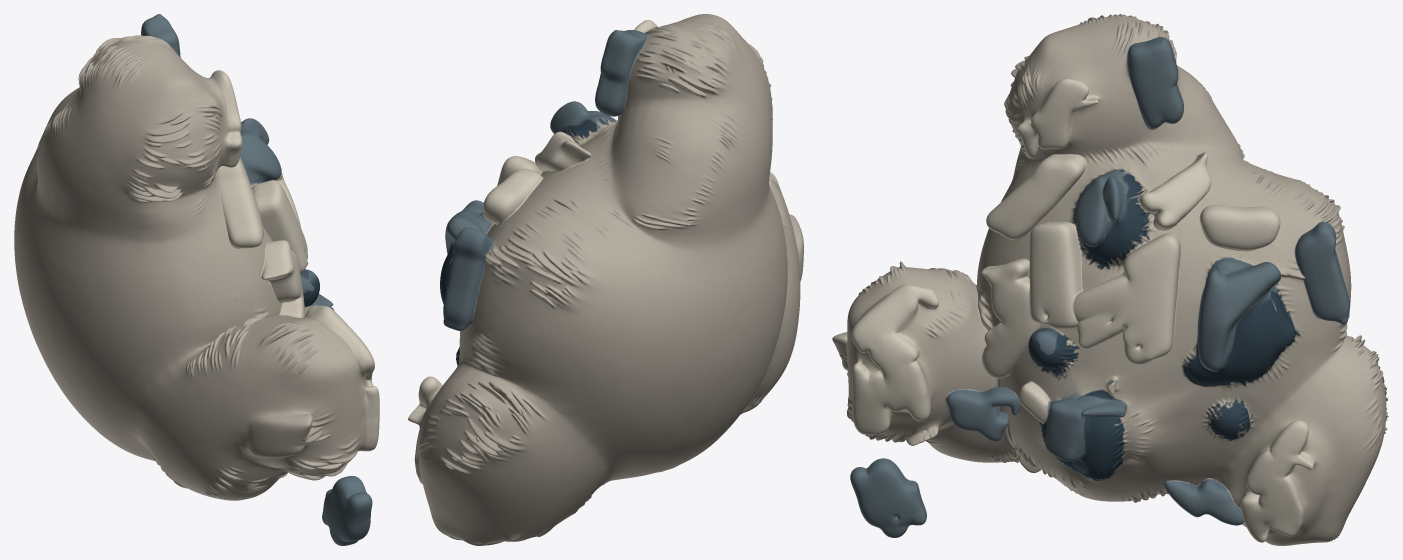
The model's file is deco_ore_02.fbx.
3 views of the same model, side by side, from view 1: azimuth 30°, elevation 25°; view 2: azimuth 150°, elevation 25°; view 3: azimuth 270°, elevation 25° (orthographic). The views are drawn at different scales.
Visible parts, largest first — view 1: tripo_node_e045be14-0d58-4c54-96f1-8f0d06d4c12a; view 2: tripo_node_e045be14-0d58-4c54-96f1-8f0d06d4c12a; view 3: tripo_node_e045be14-0d58-4c54-96f1-8f0d06d4c12a.
Boxes of the visible parts, box(x1,y1,x2,y2) form: tripo_node_e045be14-0d58-4c54-96f1-8f0d06d4c12a: box(14, 14, 379, 545); tripo_node_e045be14-0d58-4c54-96f1-8f0d06d4c12a: box(408, 14, 803, 545); tripo_node_e045be14-0d58-4c54-96f1-8f0d06d4c12a: box(832, 14, 1388, 545).
Size of the model in its own units: 54.33 by 89.56 by 96.72.
Materials: 1 (1 with a texture image).
